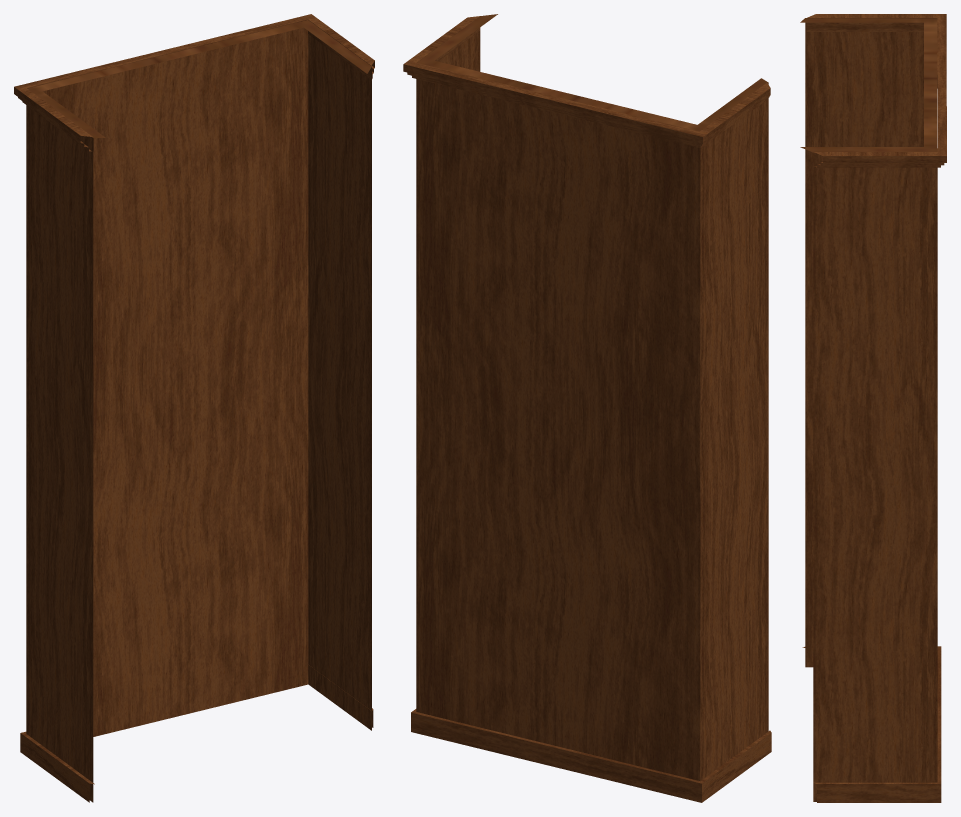
Rendered from ARC0110032.fbx.
3 renders of one model, left to right at view 1: azimuth 30°, elevation 25°; view 2: azimuth 150°, elevation 25°; view 3: azimuth 270°, elevation 25°, orthographic. The views are drawn at different scales.
Visible parts, largest first — view 1: smARC0110032; view 2: smARC0110032; view 3: smARC0110032.
Boxes of the visible parts, left/top/right/bottom form: smARC0110032: left=14, top=14, right=374, bottom=802; smARC0110032: left=403, top=14, right=771, bottom=802; smARC0110032: left=800, top=14, right=946, bottom=802.
Size of the model in its own units: 182 by 389 by 79.7.
Materials: 1 (1 with a texture image).
